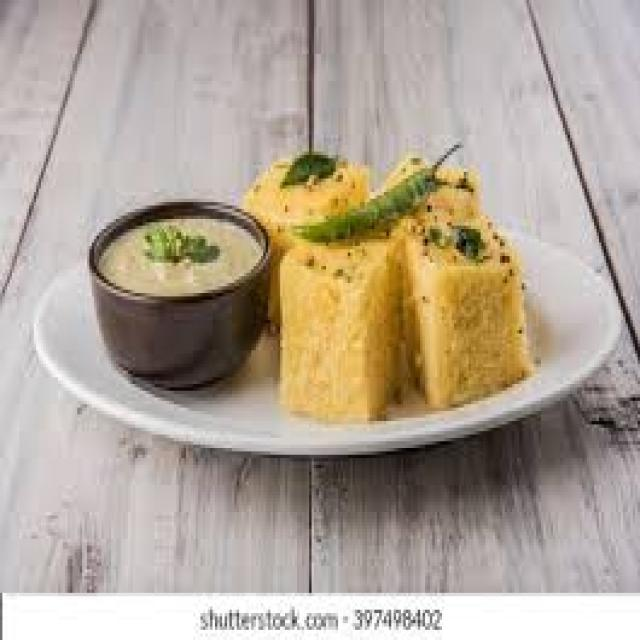DHOKLA: (243, 143, 531, 415)
